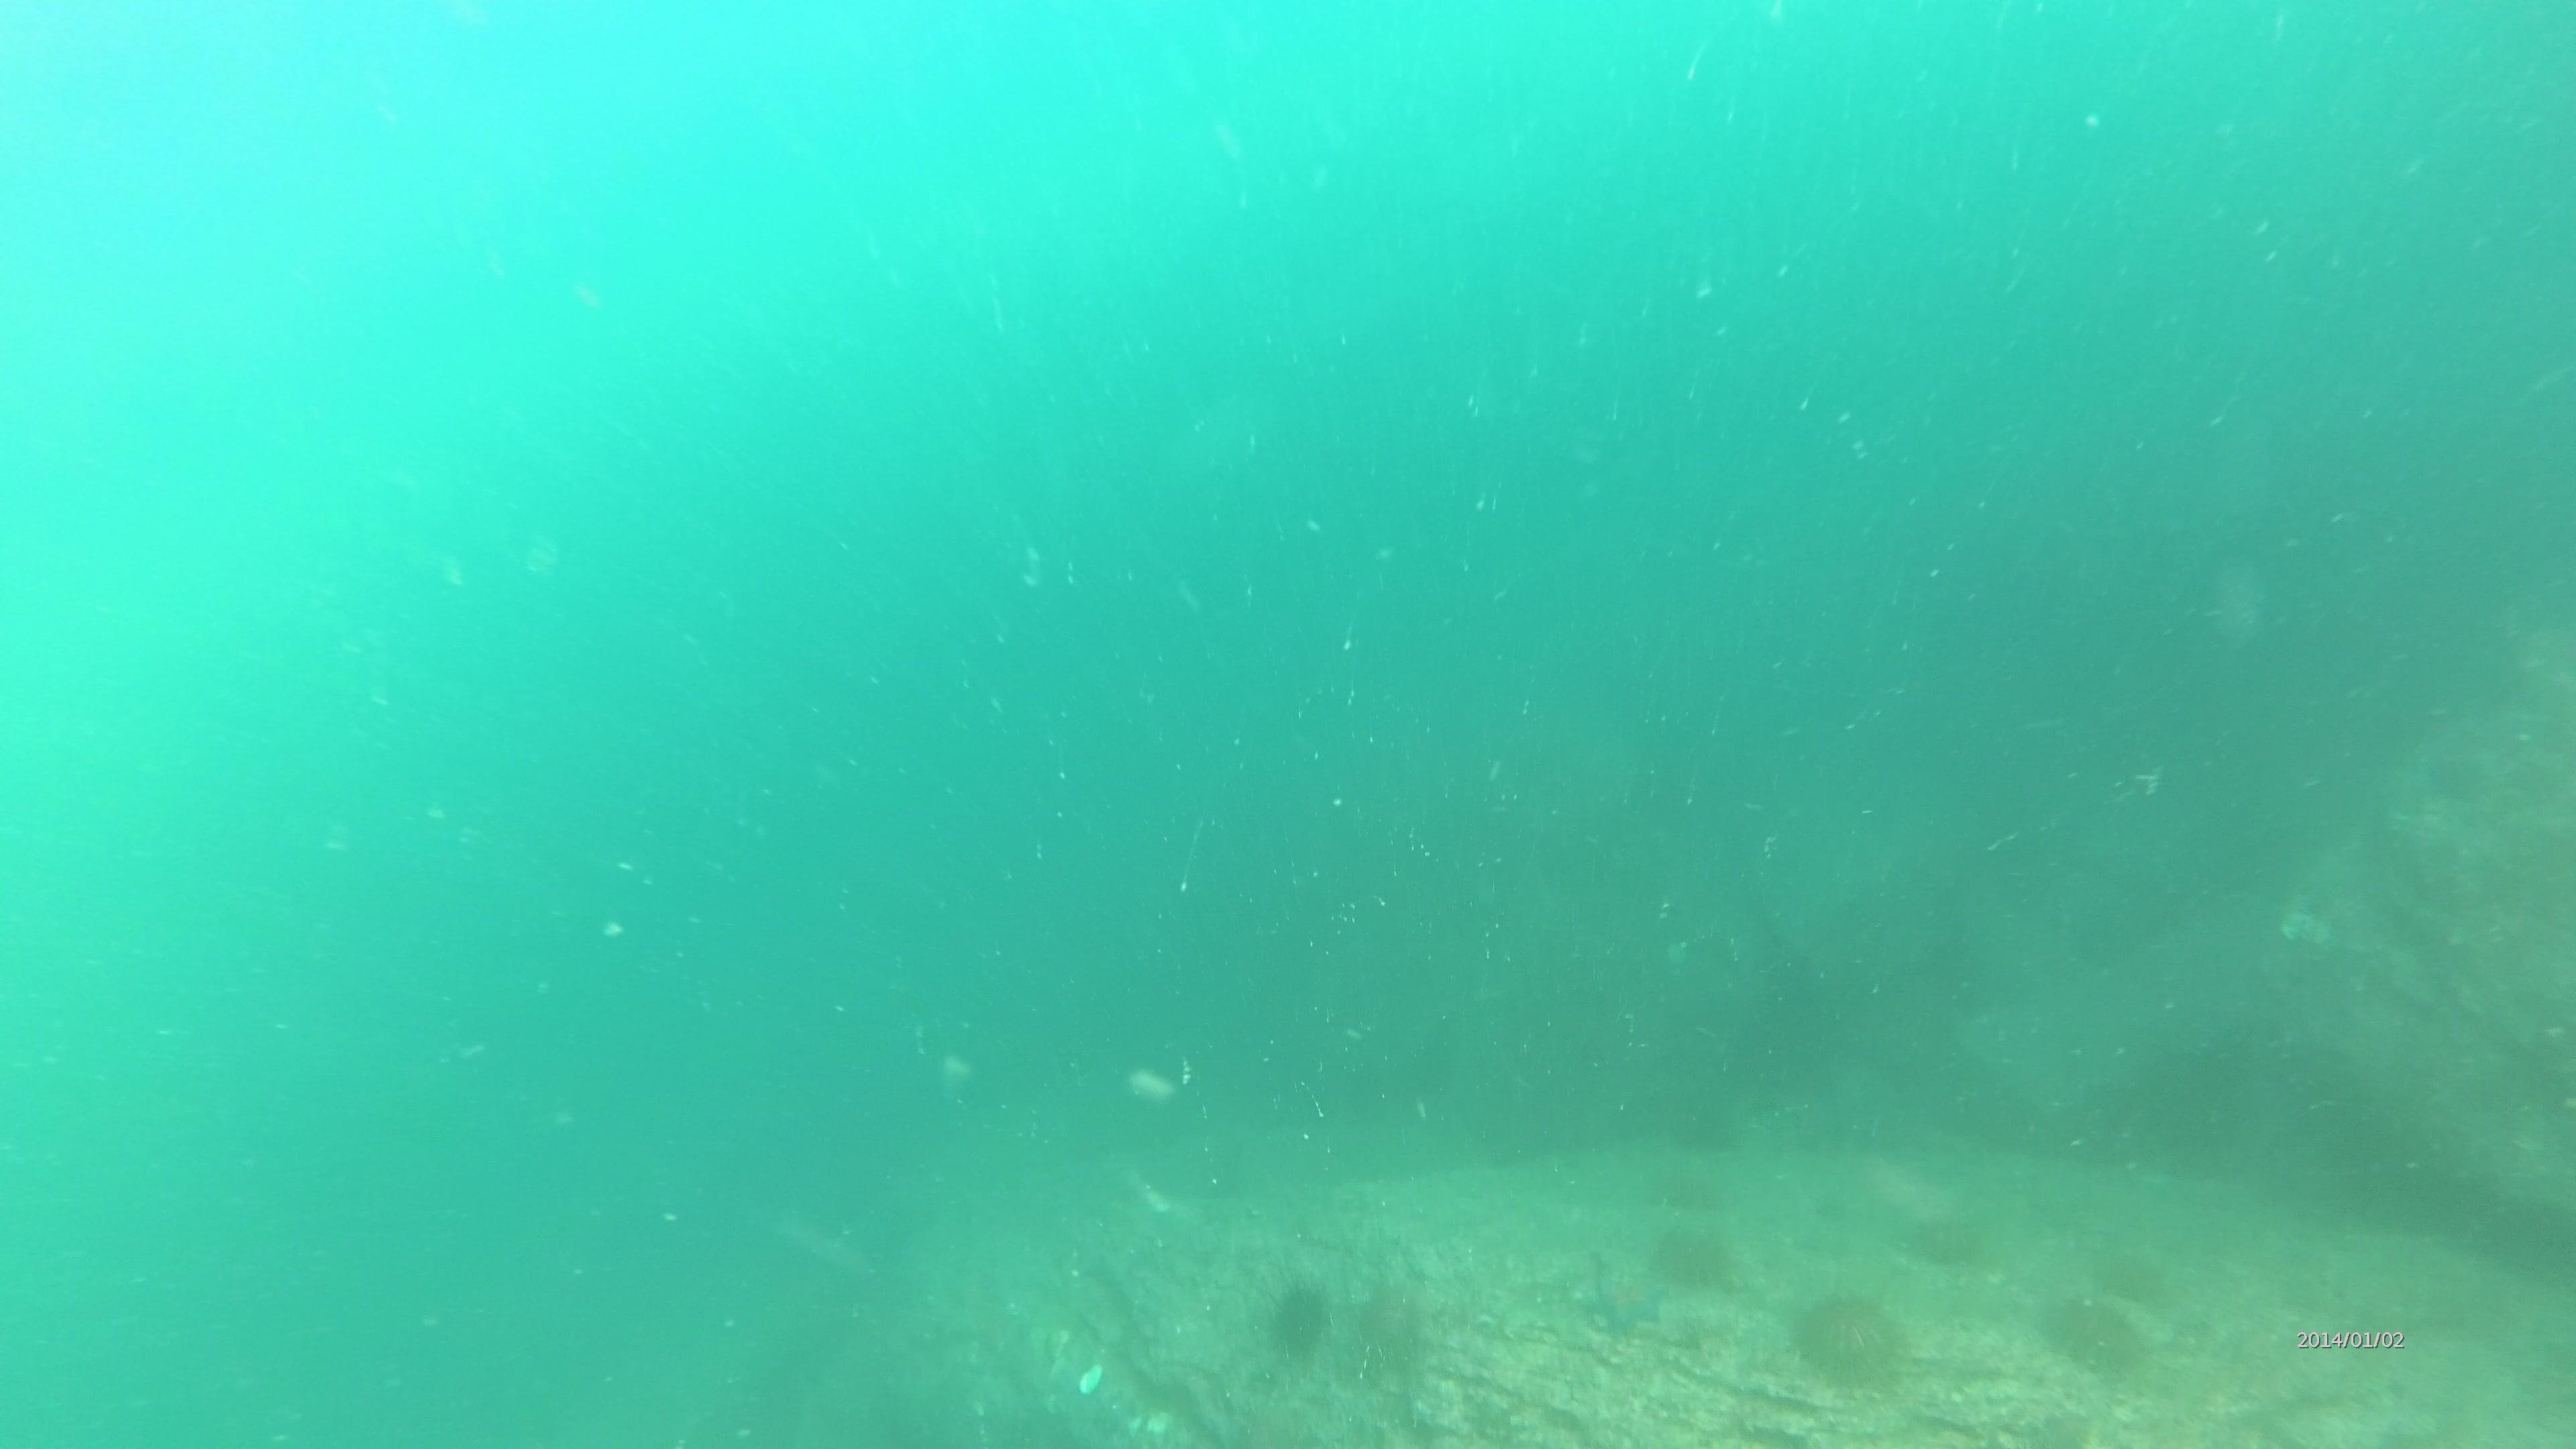echinus: (1805, 1293, 1913, 1384), (2040, 1290, 2153, 1373), (1658, 1221, 1741, 1297), (1359, 1297, 1424, 1362), (1260, 1292, 1318, 1348)
starfish: (1580, 1270, 1668, 1343)
